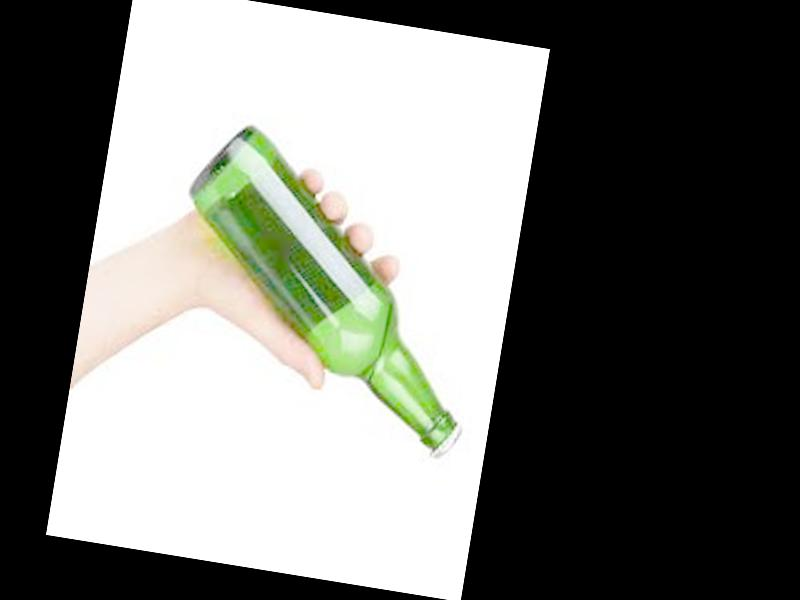Beer: (148, 119, 499, 461)
